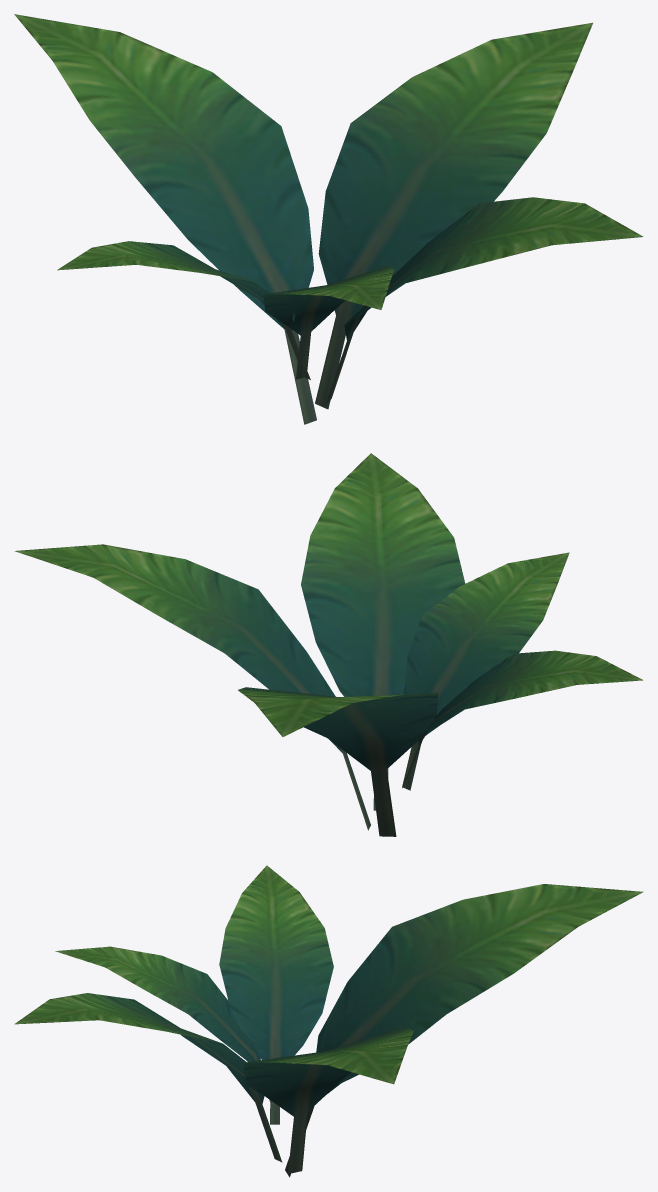
The model's file is sucai_10.FBX.
3 views of the same model, one above another, from view 1: azimuth 30°, elevation 25°; view 2: azimuth 150°, elevation 25°; view 3: azimuth 270°, elevation 25° (orthographic). The views are drawn at different scales.
Parts seen in each view (by area): view 1: sucai_09; view 2: sucai_09; view 3: sucai_09.
Boxes of the visible parts, x1,y1,x2,y2 form: sucai_09: (14,14,643,424); sucai_09: (15,453,642,836); sucai_09: (14,865,643,1177).
Size of the model in its own units: 214 by 94.27 by 221.
